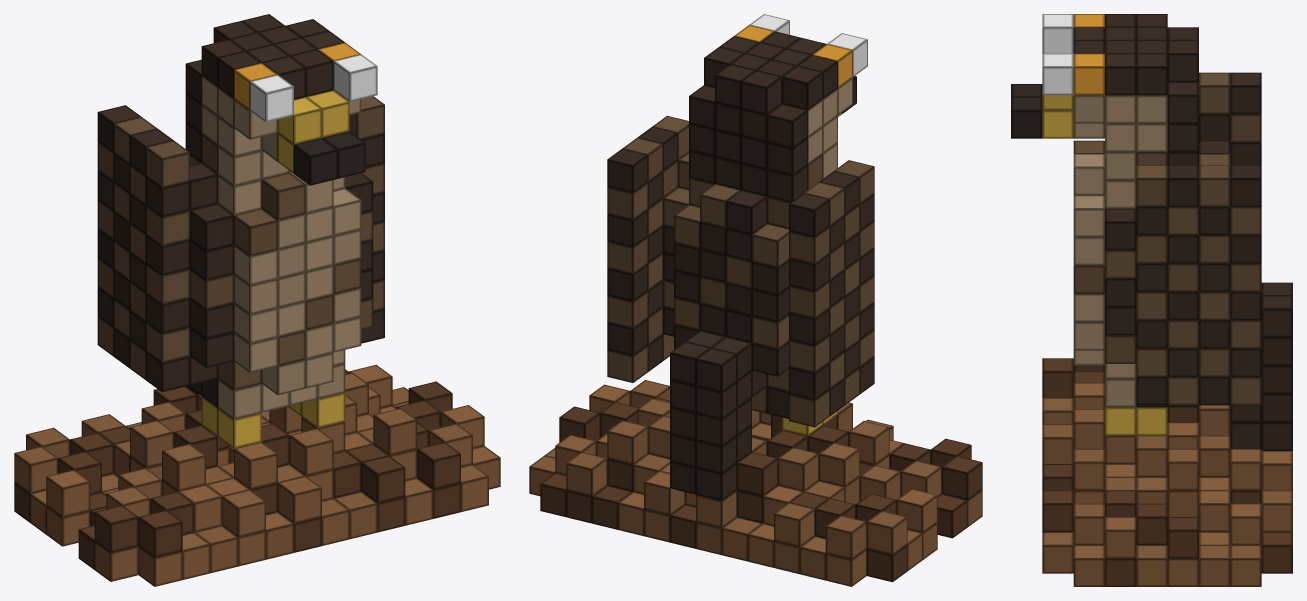
The model's file is eagle_greeter.glb.
3 renders of one model, left to right at view 1: azimuth 30°, elevation 25°; view 2: azimuth 150°, elevation 25°; view 3: azimuth 270°, elevation 25°, orthographic. The views are drawn at different scales.
Parts seen in each view (by area): view 1: eagle_greeter; view 2: eagle_greeter; view 3: eagle_greeter.
Boxes of the visible parts, x1=… form: eagle_greeter: x1=14, y1=14, x2=500, y2=586; eagle_greeter: x1=529, y1=14, x2=982, y2=586; eagle_greeter: x1=1011, y1=14, x2=1292, y2=586.
Bounding box in the file's own units: 0.7 × 0.8 × 0.45.
Materials: 9 (9 with a texture image).
